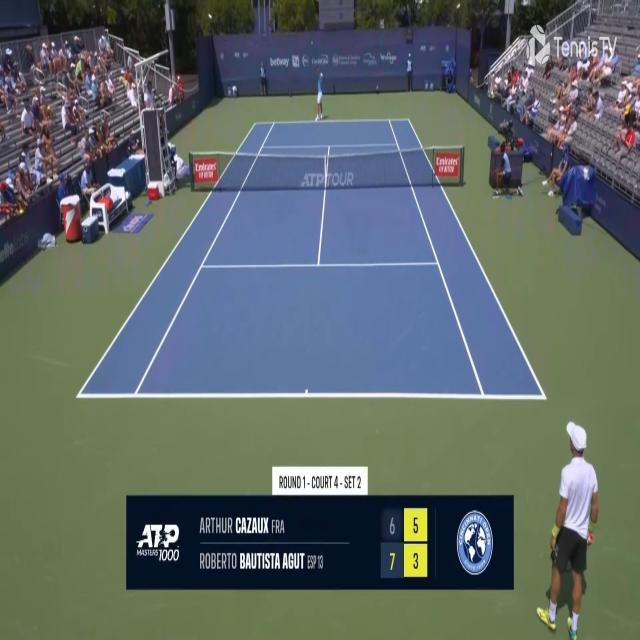tennis-player: (540, 416, 600, 638), (314, 67, 326, 123)
